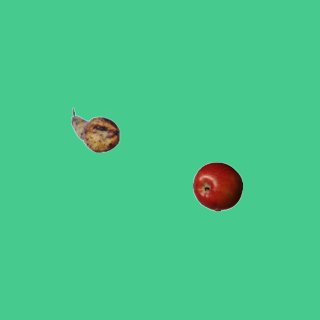Apple Braeburn: (192, 161, 242, 211)
Pear Abate: (70, 105, 120, 155)
